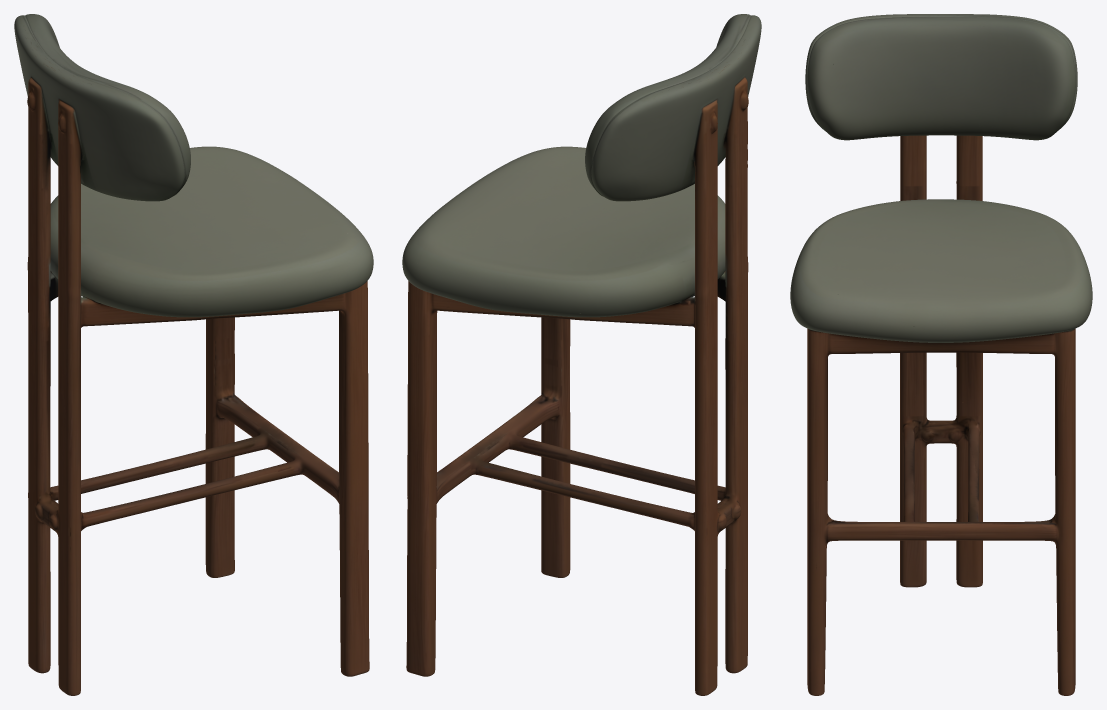
The model's file is cb_semistool_pasadena.glb.
3 renders of one model, left to right at view 1: azimuth 30°, elevation 25°; view 2: azimuth 150°, elevation 25°; view 3: azimuth 270°, elevation 25°, orthographic. The views are drawn at different scales.
Parts seen in each view (by area): view 1: node_0; view 2: node_0; view 3: node_0.
Boxes of the visible parts, x1,y1,x2,y2 form: node_0: (14, 14, 373, 695); node_0: (402, 14, 761, 695); node_0: (790, 14, 1092, 695).
Size of the model in its own units: 0.4965 by 1.04 by 0.4969.
1 material, 1 textured.
